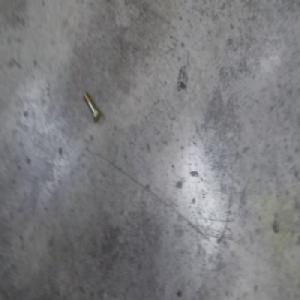Bolt: (79, 90, 100, 123)
